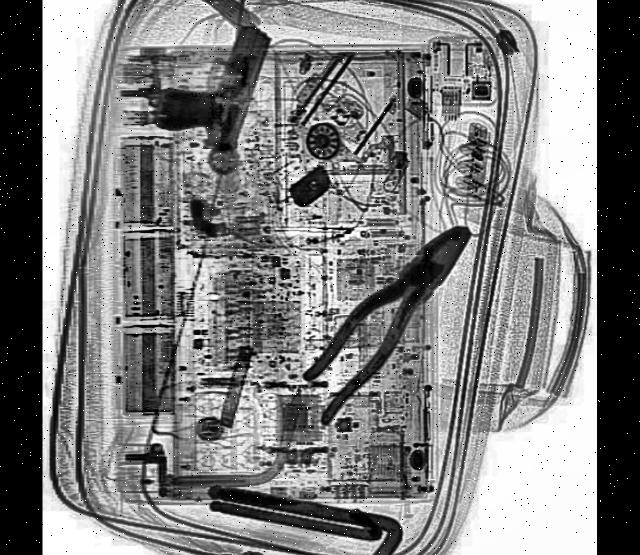Gun: (147, 0, 271, 167)
Pliers: (290, 199, 483, 434)
